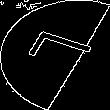L_SE: (15, 30, 95, 80)
